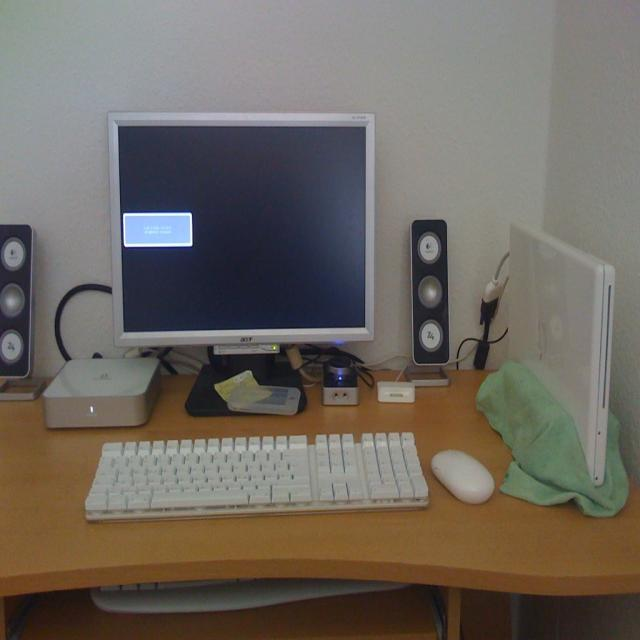Computer-mouse: (429, 445, 491, 504)
